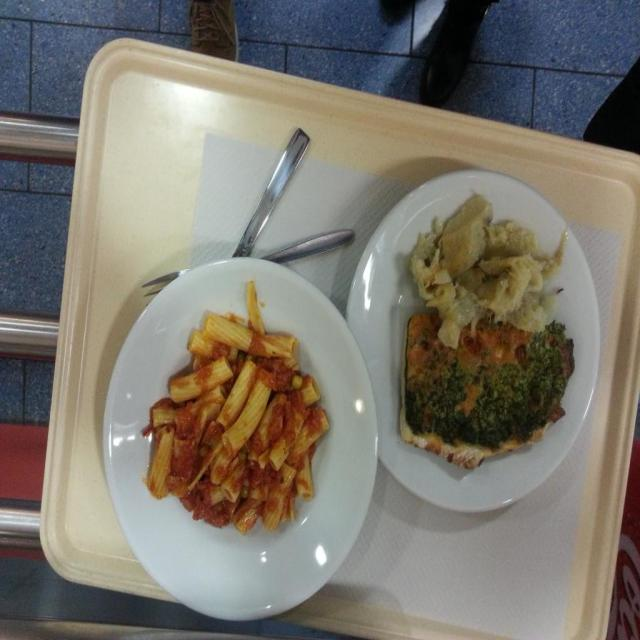plate: (102, 257, 377, 621), (342, 167, 602, 513)
